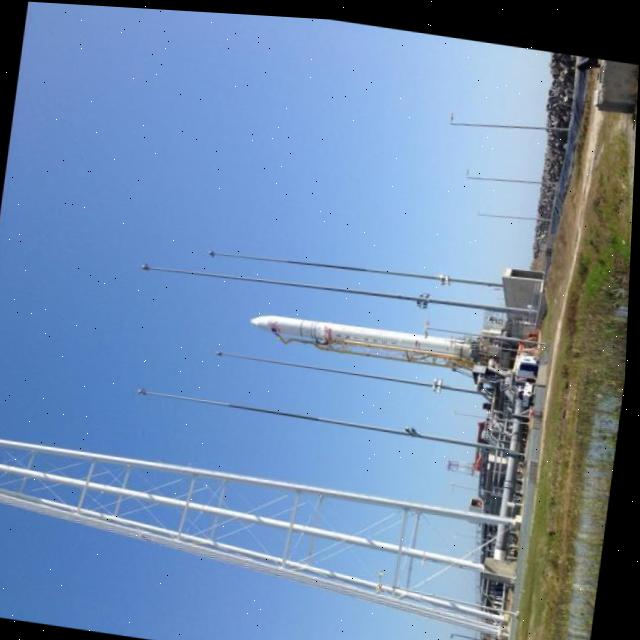missile: (254, 303, 487, 380)
